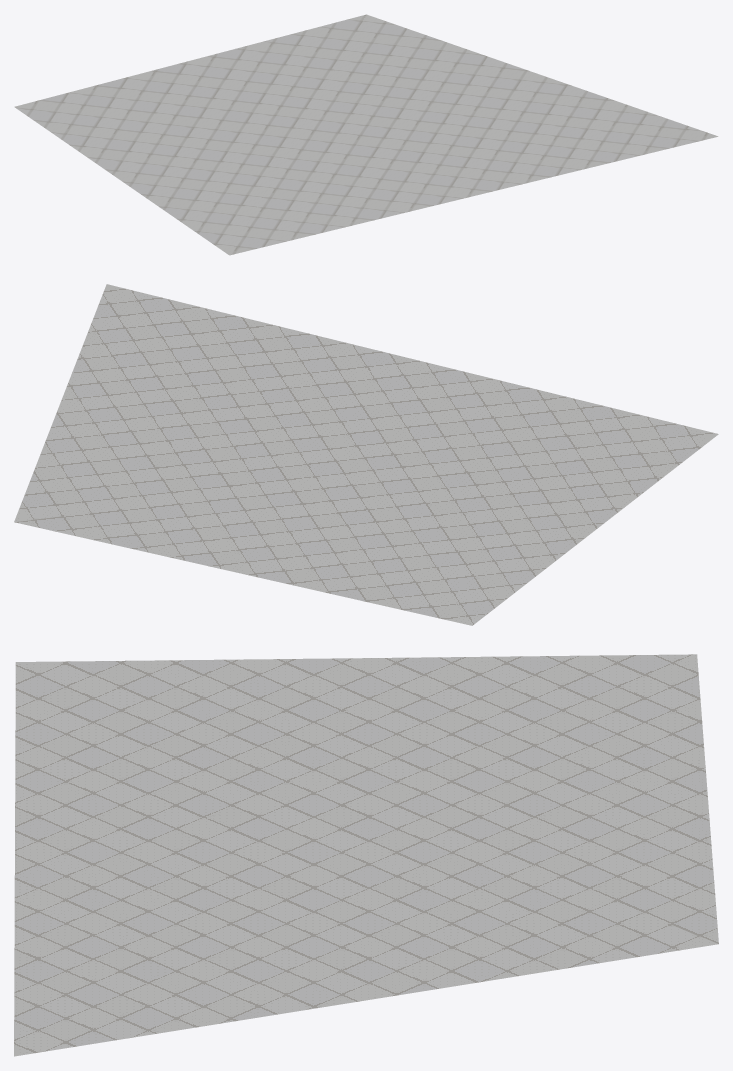
The model's file is kd_stage_136282_3_42_bounded.glb.
3 views of the same model, one above another, from view 1: azimuth 30°, elevation 25°; view 2: azimuth 150°, elevation 25°; view 3: azimuth 270°, elevation 25° (orthographic). The views are drawn at different scales.
Parts seen in each view (by area): view 1: kd_stage_136282_3_42_bounded; view 2: kd_stage_136282_3_42_bounded; view 3: kd_stage_136282_3_42_bounded.
Boxes of the visible parts, box(x1,y1,x2,y2) form: kd_stage_136282_3_42_bounded: box(14, 14, 718, 255); kd_stage_136282_3_42_bounded: box(14, 284, 718, 625); kd_stage_136282_3_42_bounded: box(14, 654, 718, 1056).
Size of the model in its own units: 6.24 by 0.000821 by 4.62.
Materials: 1 (1 with a texture image).
